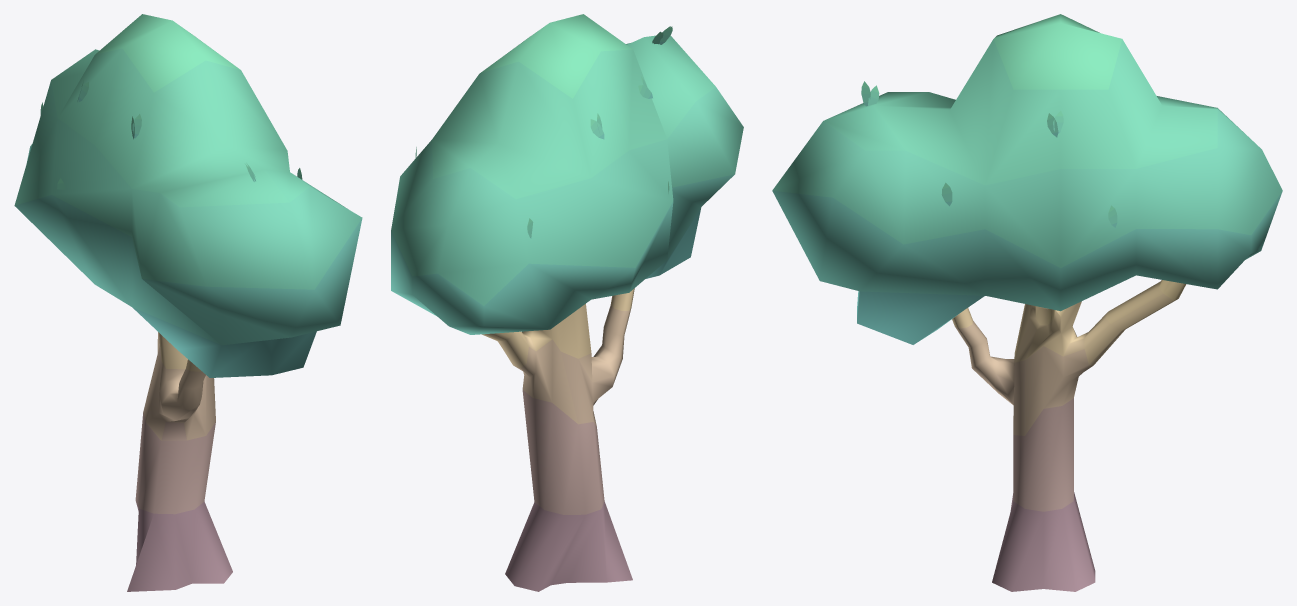
File: tree1.glb
3 views of the same model, side by side, from view 1: azimuth 30°, elevation 25°; view 2: azimuth 150°, elevation 25°; view 3: azimuth 270°, elevation 25° (orthographic). The views are drawn at different scales.
Parts seen in each view (by area): view 1: Tree1.001; view 2: Tree1.001; view 3: Tree1.001.
Part boxes in pixels (bbox=[...]): Tree1.001: bbox=[14, 14, 362, 591]; Tree1.001: bbox=[391, 14, 743, 591]; Tree1.001: bbox=[772, 14, 1282, 591].
Size of the model in its own units: 2.12 by 4.78 by 4.02.
